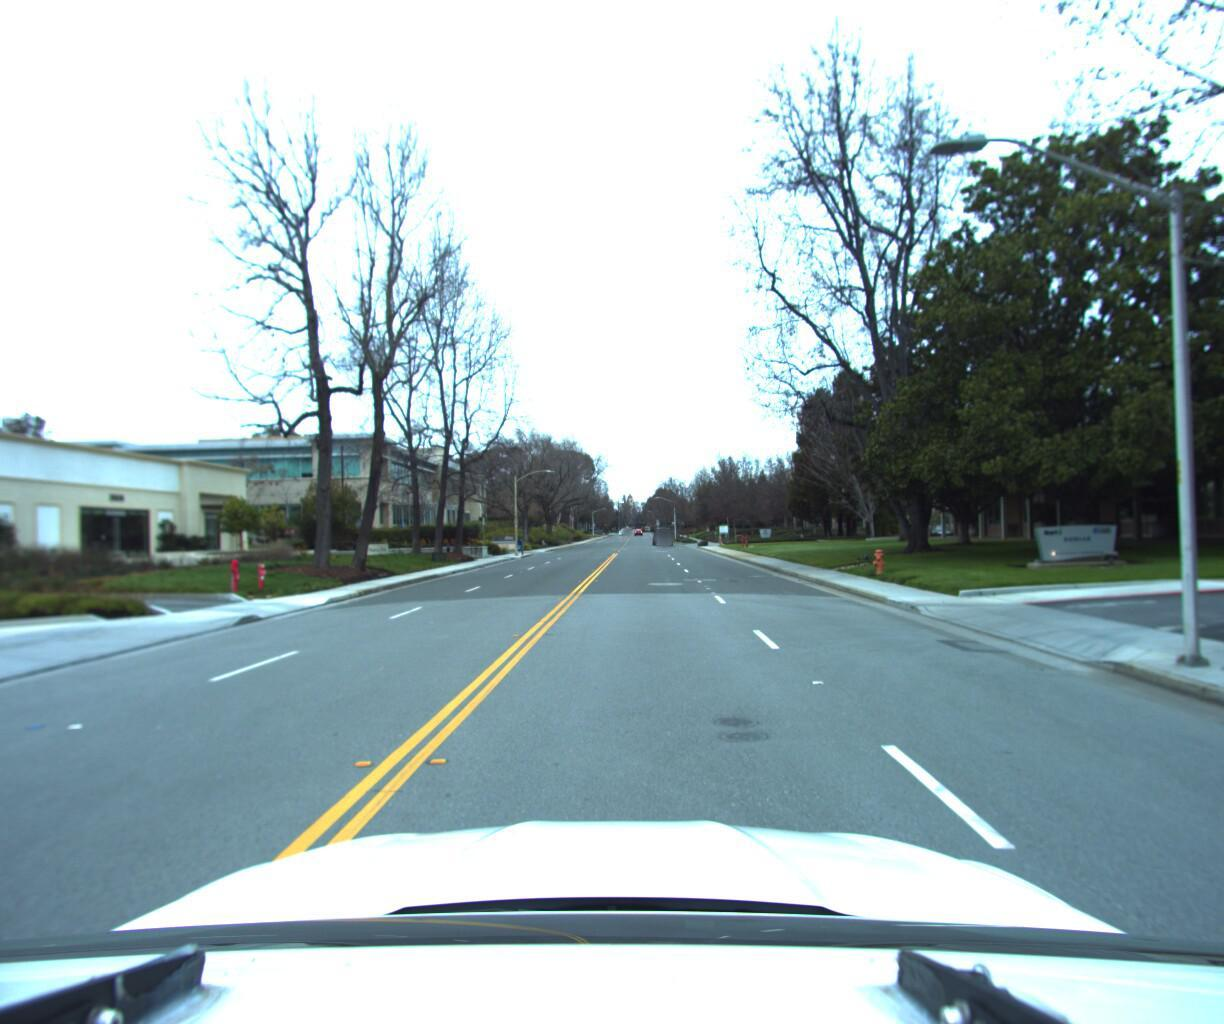car: (653, 524, 675, 544)
